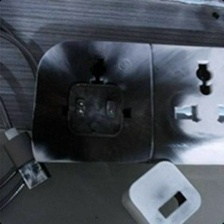three_eye_plug: (25, 32, 224, 169)
